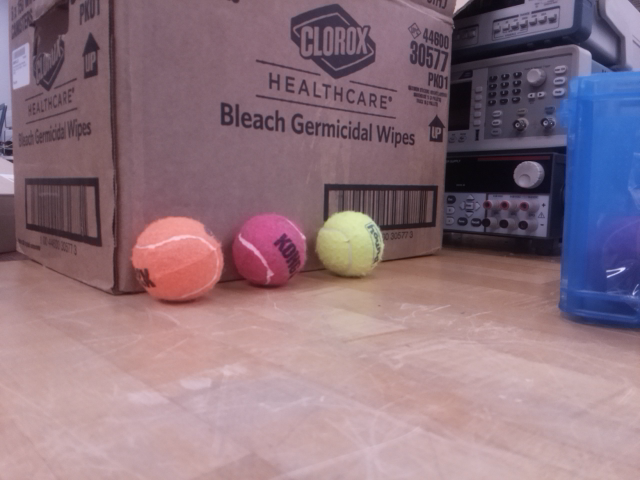orange-ball: (129, 214, 226, 304)
red-ball: (230, 212, 308, 289)
yellow-ball: (314, 209, 386, 280)
